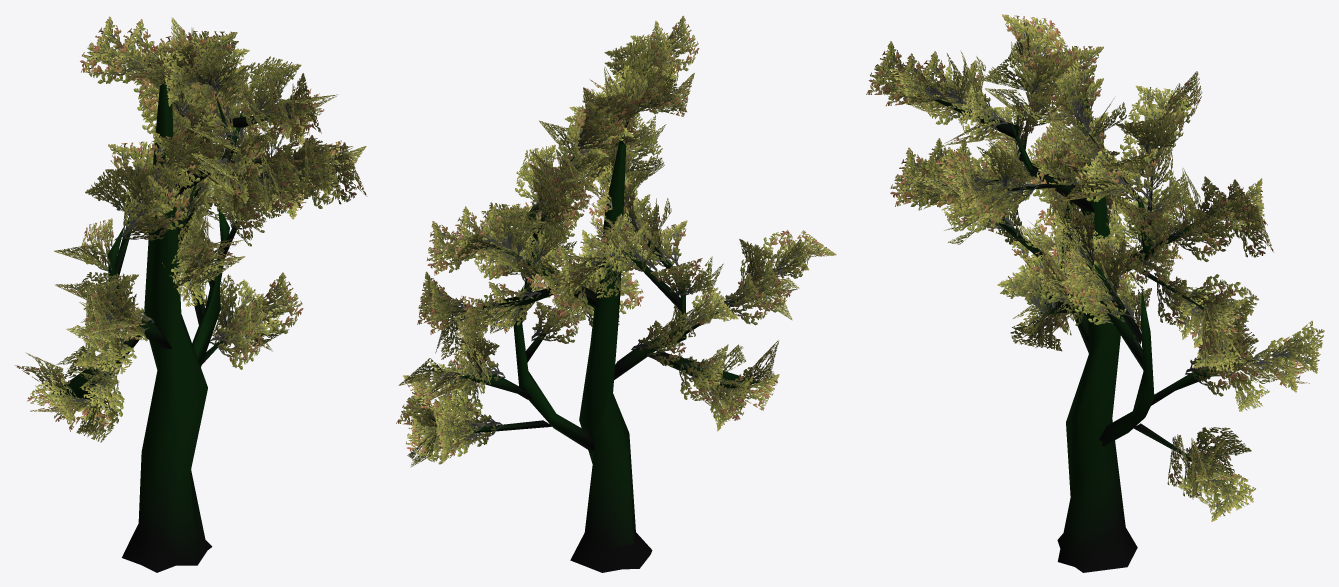
File: tree6_3_afsTREE_xao_xlprl_LOD2.fbx
The picture shows the model from 3 angles, left to right: view 1: azimuth 30°, elevation 25°; view 2: azimuth 150°, elevation 25°; view 3: azimuth 270°, elevation 25°; orthographic projection. The views are drawn at different scales.
Parts seen in each view (by area): view 1: branch.001_xw19_xt29_xp17, leaf.055_xw29_xt25_xp27, branch.017_xw27_xt17_xp17, leaf.001_xw15_xt25_xp25, leaf.005_xw25_xt19_xp21, leaf.091_xw25_xt15_xp21, leaf.054_xw25_xt19_xp17, leaf1.023_xw25_xt19_xp23, leaf.083_xw19_xt25_xp23, leaf1.059_xw27_xt23_xp17, leaf.079_xw17_xt17_xp23, leaf1.024_xw17_xt15_xp25 (+57 smaller); view 2: branch.001_xw19_xt29_xp17, branch.017_xw27_xt17_xp17, leaf.021_xw15_xt29_xp27, leaf.011_xw23_xt25_xp25, leaf.050_xw23_xt27_xp25, leaf.028_xw27_xt27_xp21, leaf.019_xw23_xt25_xp15, leaf.034_xw29_xt29_xp29, leaf.010_xw29_xt17_xp19, leaf.016_xw23_xt15_xp21, leaf.090_xw17_xt25_xp25, leaf.049_xw29_xt19_xp15 (+54 smaller); view 3: branch.001_xw19_xt29_xp17, branch.017_xw27_xt17_xp17, leaf.065_xw23_xt29_xp29, leaf.059_xw15_xt17_xp29, leaf1.010_xw23_xt27_xp21, leaf1.004_xw15_xt23_xp17, leaf.044_xw15_xt15_xp27, leaf1.045_xw27_xt29_xp15, leaf.046_xw15_xt19_xp19, leaf1.080_xw17_xt17_xp21, leaf.084_xw27_xt23_xp21, leaf1.029_xw19_xt25_xp15 (+63 smaller).
Part boxes in pixels (x1,y1,x2,y2): branch.001_xw19_xt29_xp17: (122, 82, 212, 572); leaf.055_xw29_xt25_xp27: (80, 16, 143, 83); branch.017_xw27_xt17_xp17: (192, 204, 229, 366); leaf.001_xw15_xt25_xp25: (209, 302, 255, 369); leaf.005_xw25_xt19_xp21: (245, 272, 303, 333); leaf.091_xw25_xt15_xp21: (132, 175, 189, 229); leaf.054_xw25_xt19_xp17: (103, 19, 164, 83); leaf1.023_xw25_xt19_xp23: (78, 272, 138, 315); leaf.083_xw19_xt25_xp23: (176, 31, 237, 90); leaf1.059_xw27_xt23_xp17: (250, 56, 301, 111); leaf.079_xw17_xt17_xp23: (202, 83, 253, 143); leaf1.024_xw17_xt15_xp25: (74, 331, 136, 374); branch.001_xw19_xt29_xp17: (570, 140, 652, 572); branch.017_xw27_xt17_xp17: (513, 286, 594, 451); leaf.021_xw15_xt29_xp27: (724, 273, 772, 325); leaf.011_xw23_xt25_xp25: (531, 301, 579, 343); leaf.050_xw23_xt27_xp25: (426, 221, 479, 275); leaf.028_xw27_xt27_xp21: (710, 374, 753, 420); leaf.019_xw23_xt25_xp15: (650, 258, 709, 298); leaf.034_xw29_xt29_xp29: (426, 280, 474, 334); leaf.010_xw29_xt17_xp19: (403, 372, 457, 411); leaf.016_xw23_xt15_xp21: (631, 320, 686, 367); leaf.090_xw17_xt25_xp25: (542, 266, 587, 315); leaf.049_xw29_xt19_xp15: (444, 206, 499, 262); branch.001_xw19_xt29_xp17: (1057, 96, 1137, 572); branch.017_xw27_xt17_xp17: (1099, 289, 1154, 446); leaf.065_xw23_xt29_xp29: (890, 147, 949, 206); leaf.059_xw15_xt17_xp29: (883, 53, 946, 106); leaf1.010_xw23_xt27_xp21: (1270, 321, 1324, 373); leaf1.004_xw15_xt23_xp17: (1206, 469, 1255, 521); leaf.044_xw15_xt15_xp27: (1105, 147, 1157, 208); leaf1.045_xw27_xt29_xp15: (1075, 144, 1133, 201); leaf.046_xw15_xt19_xp19: (1168, 203, 1224, 261); leaf1.080_xw17_xt17_xp21: (958, 83, 1007, 140); leaf.084_xw27_xt23_xp21: (1012, 20, 1065, 79); leaf1.029_xw19_xt25_xp15: (997, 258, 1049, 313).
Size of the model in its own units: 88.41 by 127 by 99.7.
